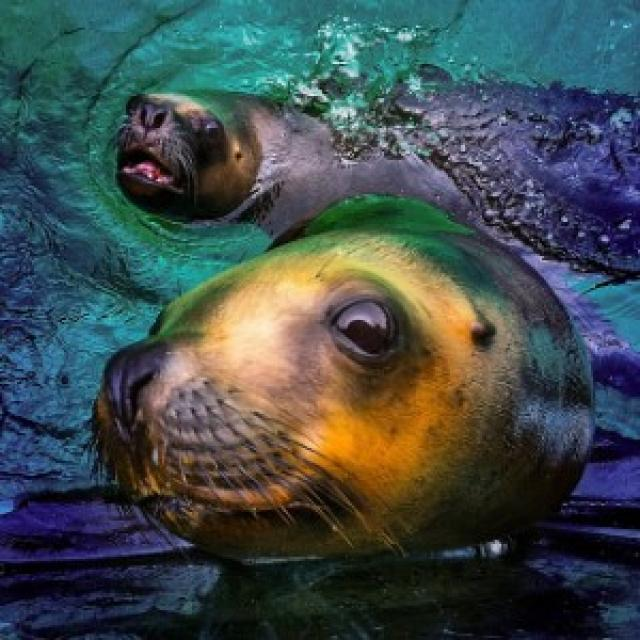Seal: (84, 219, 631, 587), (79, 52, 640, 237)
